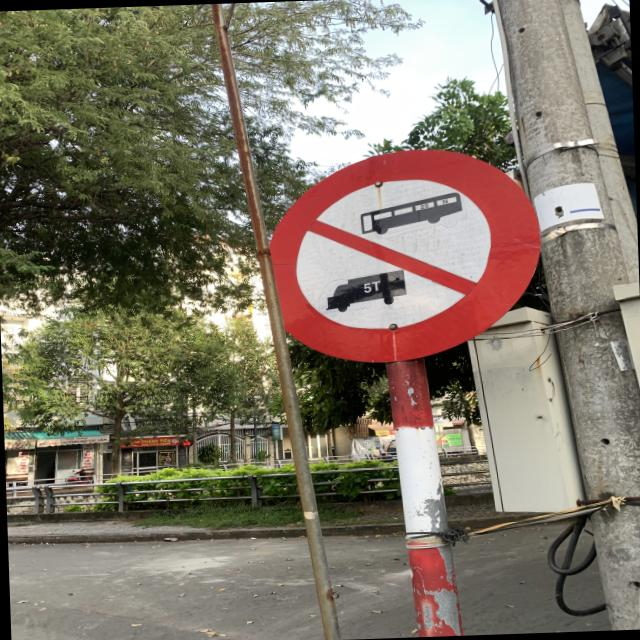Cam_XeTai_XeKhach: (258, 140, 544, 360)
